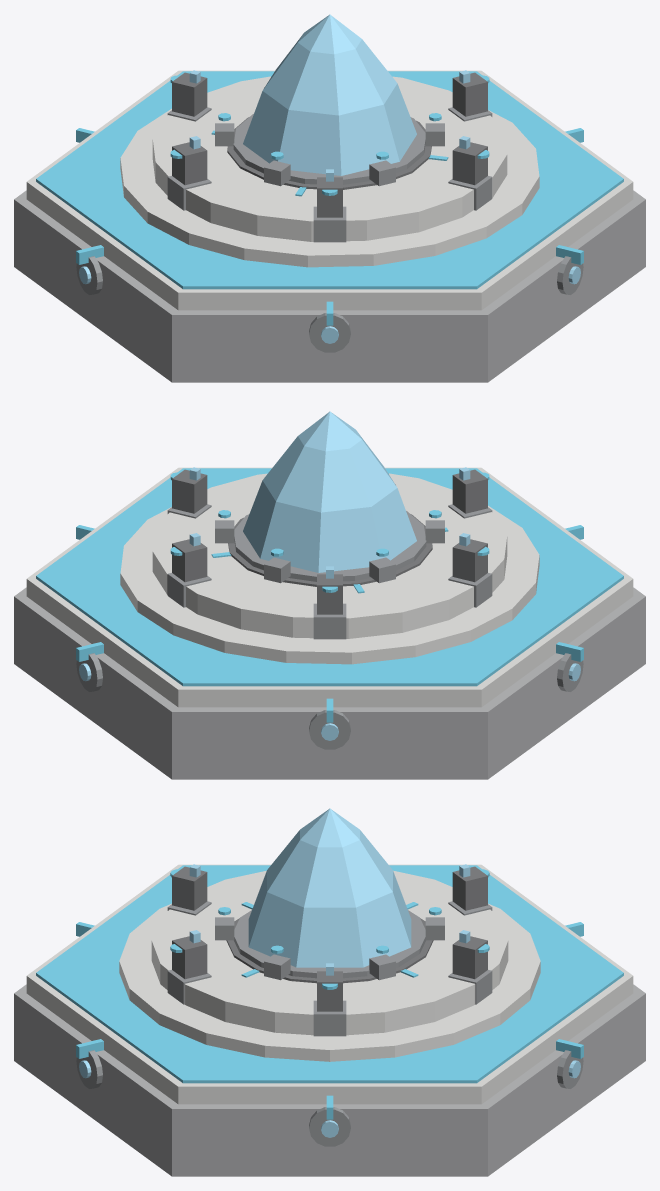
The model's file is shield_emitter_s3_100.glb.
3 views of the same model, one above another, from view 1: azimuth 30°, elevation 25°; view 2: azimuth 150°, elevation 25°; view 3: azimuth 270°, elevation 25° (orthographic).
Parts seen in each view (by area): view 1: SE_Band_0; view 2: SE_Band_0; view 3: SE_Band_0.
Part boxes in pixels (left/top/right/bottom): SE_Band_0: left=14, top=14, right=645, bottom=382; SE_Band_0: left=14, top=411, right=645, bottom=779; SE_Band_0: left=14, top=808, right=645, bottom=1176.
Bounding box in the file's own units: 3.6 × 1.72 × 3.9.
